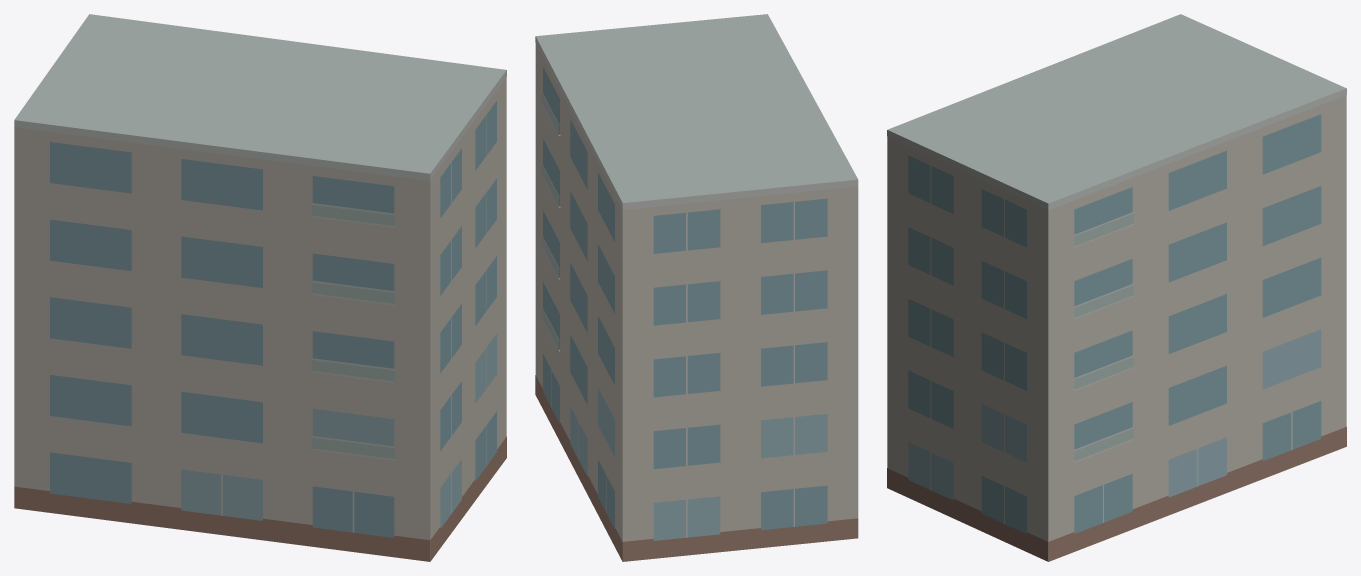
Rendered from survey-upis-32892716.glb.
3 renders of one model, left to right at view 1: azimuth 30°, elevation 25°; view 2: azimuth 150°, elevation 25°; view 3: azimuth 270°, elevation 25°, orthographic. The views are drawn at different scales.
Visible parts, largest first — view 1: survey-upis-32892716.tmp; view 2: survey-upis-32892716.tmp; view 3: survey-upis-32892716.tmp.
Part boxes in pixels (<box>): survey-upis-32892716.tmp: <box>14,14,506,561</box>; survey-upis-32892716.tmp: <box>535,14,858,561</box>; survey-upis-32892716.tmp: <box>887,14,1346,561</box>.
Bounding box in the file's own units: 14.87 × 13.1 × 15.24.
